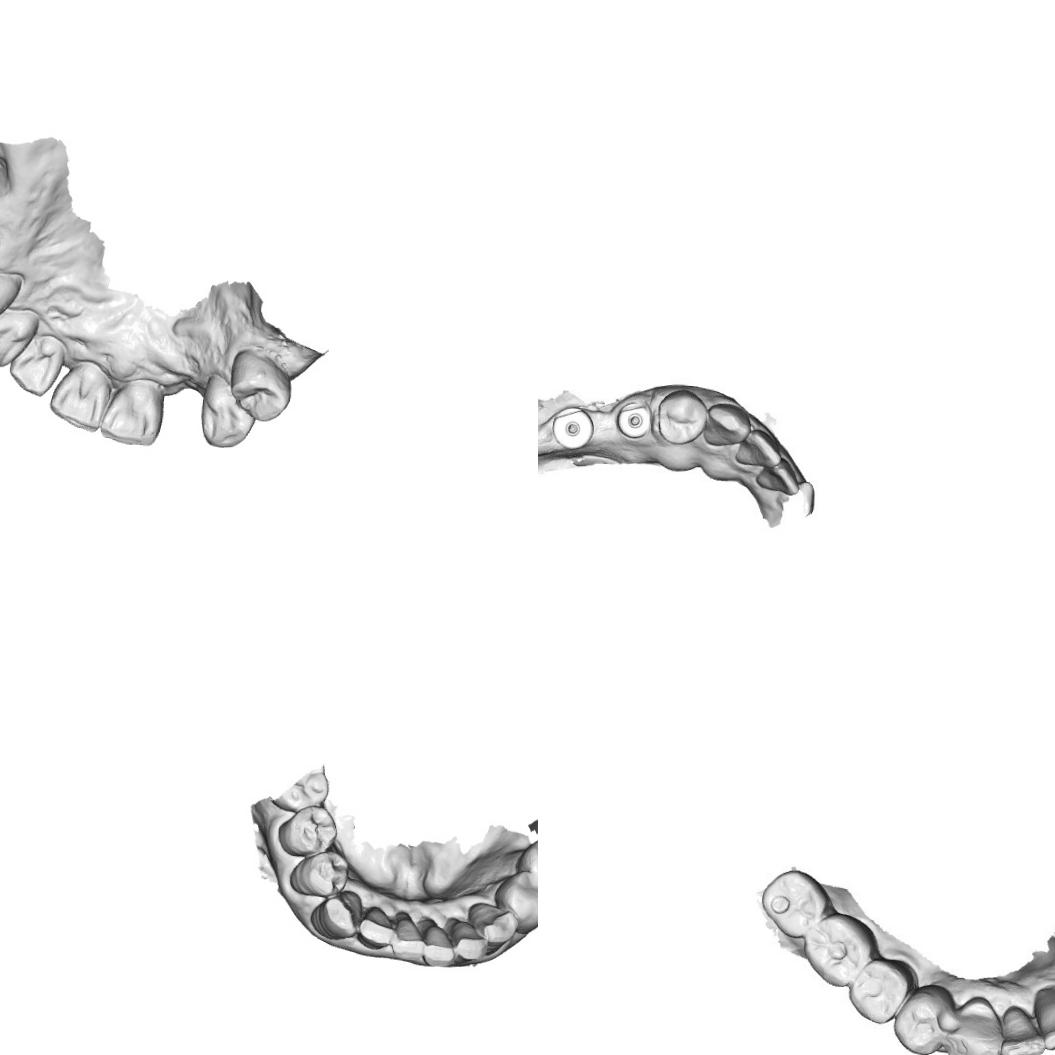canine: (198, 372, 256, 450), (308, 887, 364, 942), (948, 999, 1002, 1055), (466, 899, 520, 946), (0, 306, 39, 369), (702, 401, 752, 450)
implant: (552, 405, 596, 458), (615, 399, 655, 440)
incisor: (47, 357, 115, 434), (98, 375, 165, 448), (7, 333, 69, 398), (999, 1004, 1050, 1055), (444, 915, 490, 964), (735, 427, 785, 470), (752, 458, 802, 498), (356, 904, 396, 952), (392, 910, 426, 962), (423, 916, 456, 968), (1033, 990, 1055, 1044)
molar: (800, 908, 877, 989), (756, 868, 826, 945)
premolar: (842, 950, 920, 1024), (884, 980, 960, 1055), (226, 348, 294, 424), (276, 803, 340, 859), (655, 384, 709, 445), (288, 848, 350, 898), (492, 871, 538, 936), (513, 837, 538, 900), (0, 268, 30, 320)
